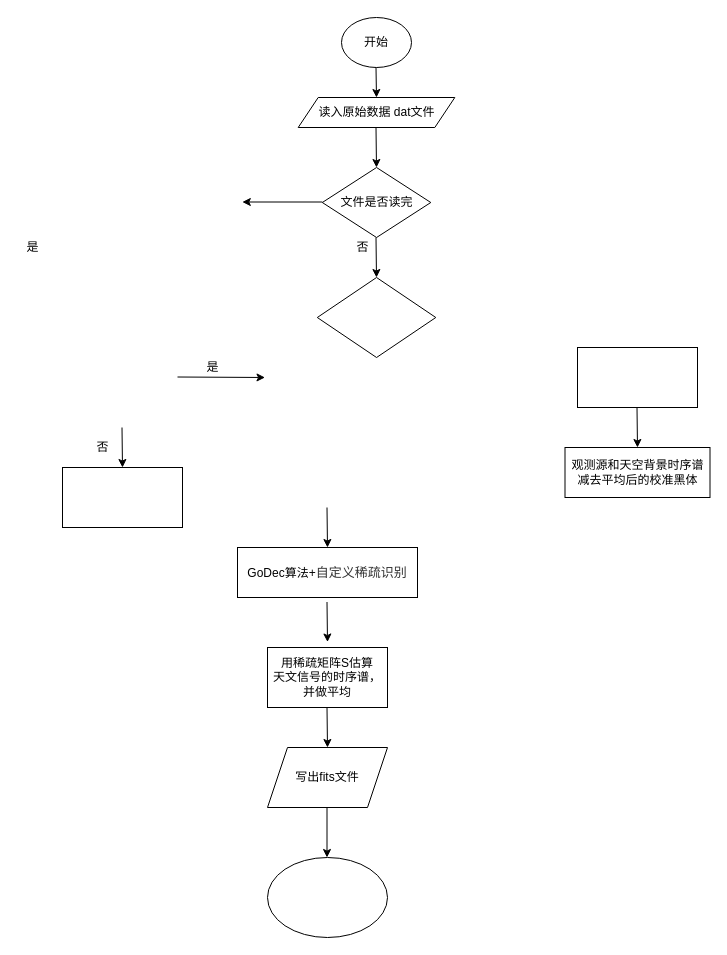
This 727x955 diagram has some shape labels left out. Each missing label, with the centre of its shape:
"dat[1] == 1) or (dat[1] == 6" belongs at (x=376, y=317).
"结束" belongs at (x=327, y=897).
"读入sky数据，并进行中值滤波" belongs at (x=122, y=497).
"读取校准黑体数据，并进行中值滤波" belongs at (x=637, y=377).
